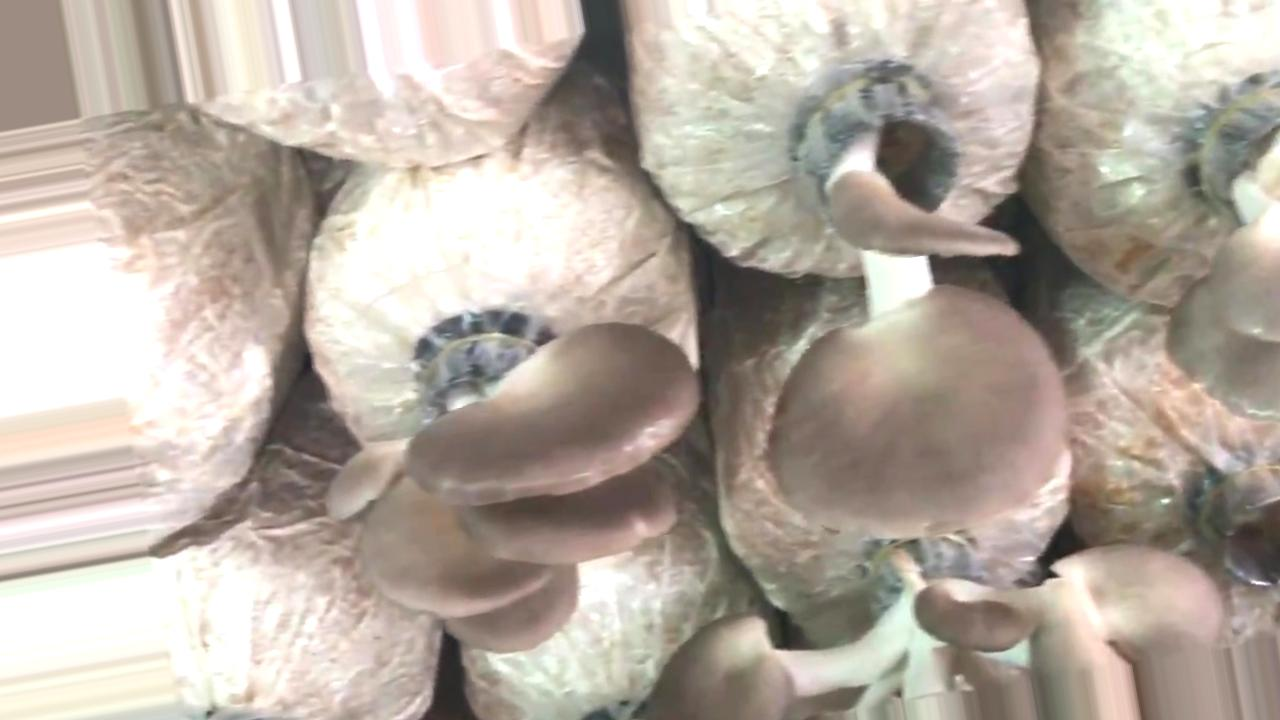nam: (770, 70, 1073, 528), (320, 324, 709, 655), (643, 541, 1278, 720), (1163, 77, 1280, 418)
